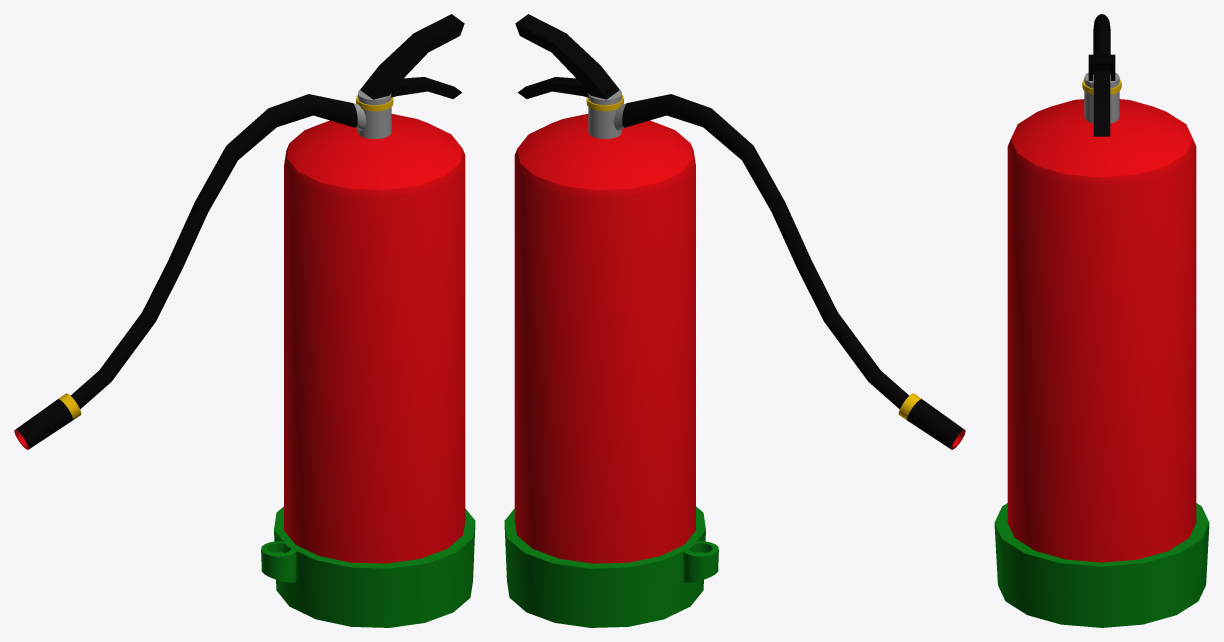
Rendered from Extinguisher.fbx.
3 views of the same model, side by side, from view 1: azimuth 30°, elevation 25°; view 2: azimuth 150°, elevation 25°; view 3: azimuth 270°, elevation 25° (orthographic). The views are drawn at different scales.
Visible parts, largest first — view 1: Cube; view 2: Cube; view 3: Cube.
Boxes of the visible parts, <box> form: Cube: <box>14,14,475,627</box>; Cube: <box>504,14,965,627</box>; Cube: <box>994,14,1209,627</box>.
Bounding box in the file's own units: 867 × 1019 × 352.
